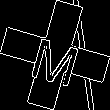M_N: (26, 25, 84, 85)
